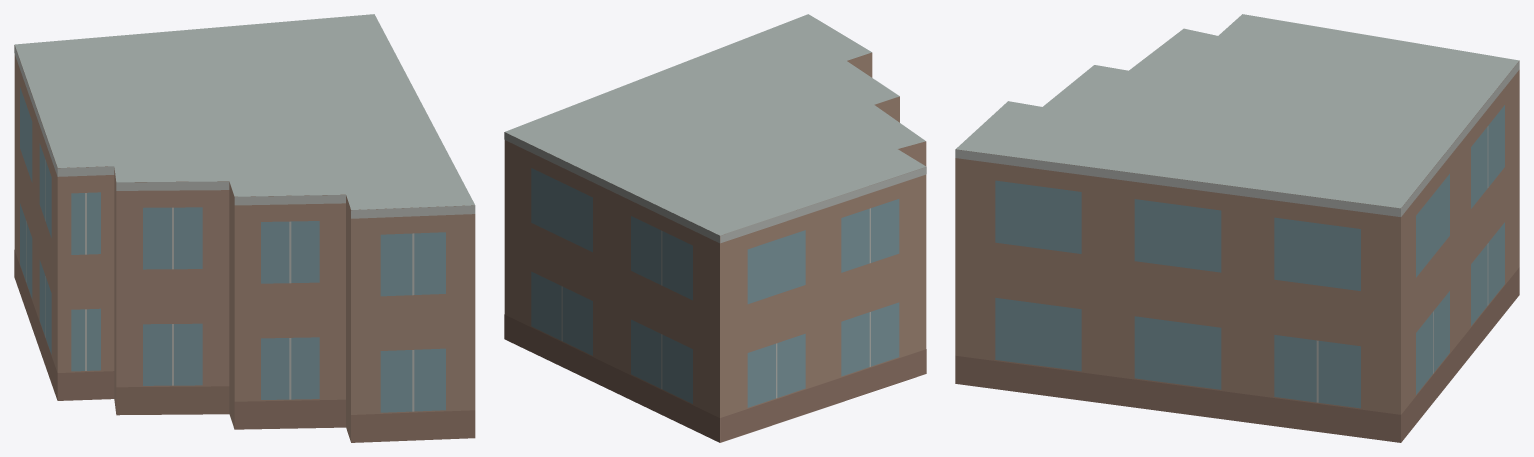
The model's file is survey-upis-32604830.glb.
3 views of the same model, side by side, from view 1: azimuth 30°, elevation 25°; view 2: azimuth 150°, elevation 25°; view 3: azimuth 270°, elevation 25° (orthographic). The views are drawn at different scales.
Visible parts, largest first — view 1: survey-upis-32604830.tmp; view 2: survey-upis-32604830.tmp; view 3: survey-upis-32604830.tmp.
Part boxes in pixels (left/top/right/bottom): survey-upis-32604830.tmp: left=14, top=14, right=475, bottom=442; survey-upis-32604830.tmp: left=504, top=14, right=926, bottom=442; survey-upis-32604830.tmp: left=955, top=14, right=1519, bottom=442.
Size of the model in its own units: 11.57 by 6.5 by 14.18.
